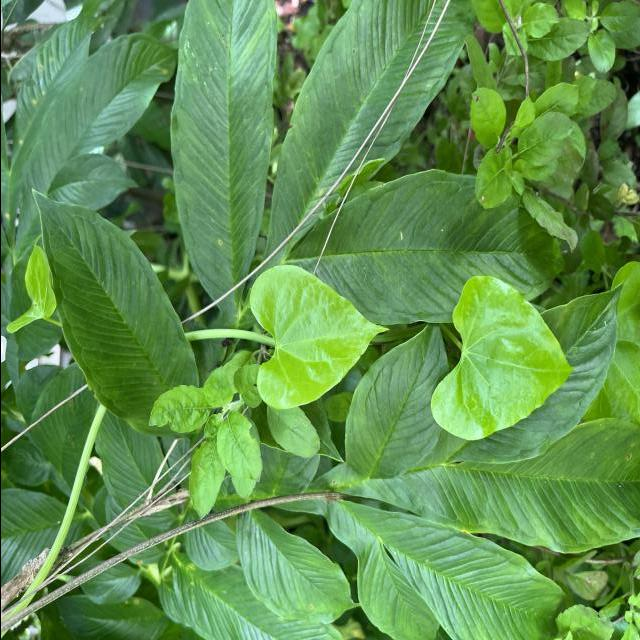Tinospora cordifolia: (428, 274, 576, 442), (246, 264, 390, 412)
